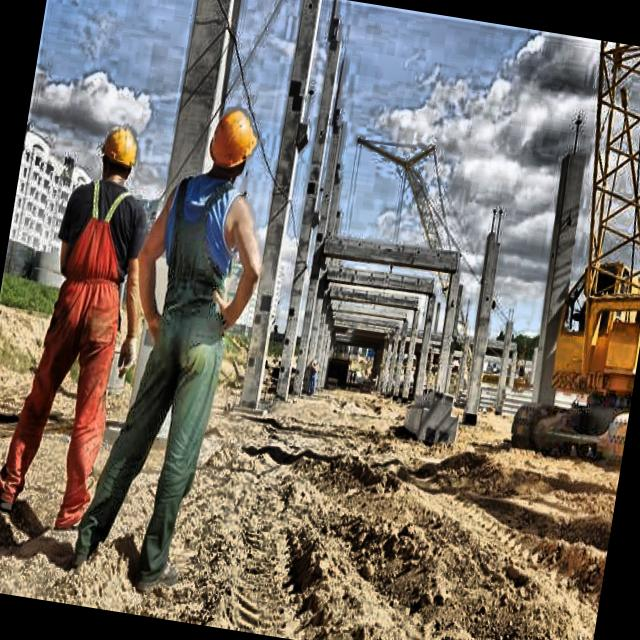helmet: (196, 90, 271, 200), (90, 111, 144, 197)
